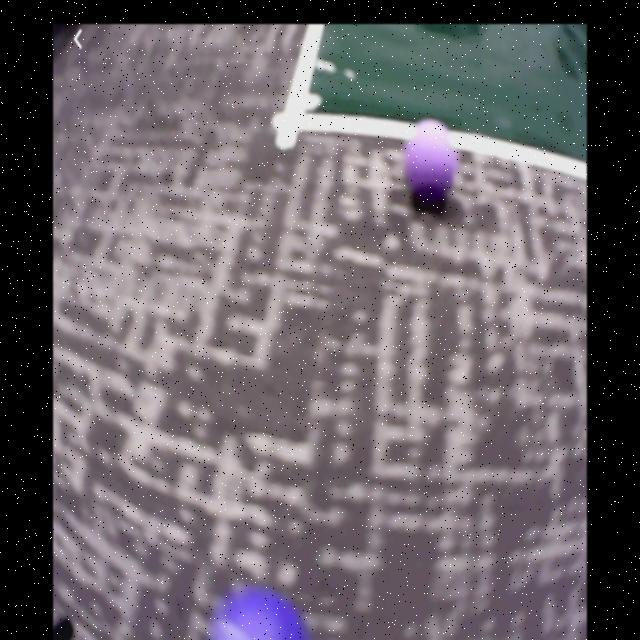ball: (206, 589, 306, 640), (407, 119, 456, 200)
